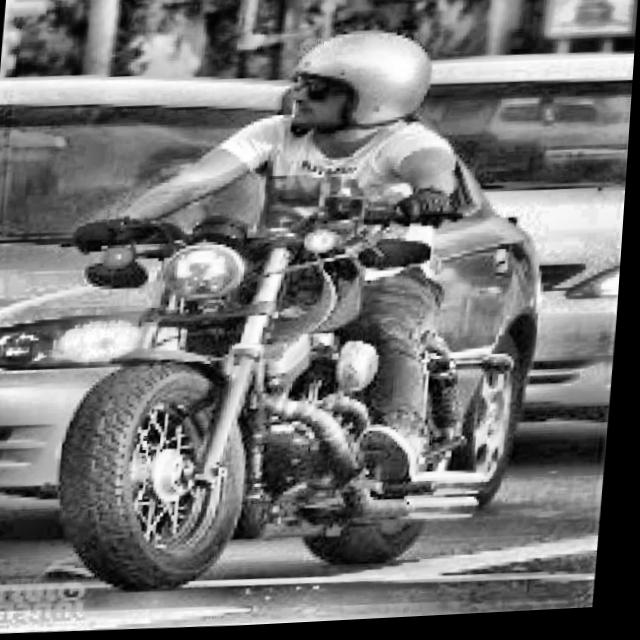motorcycle: (46, 169, 541, 605)
